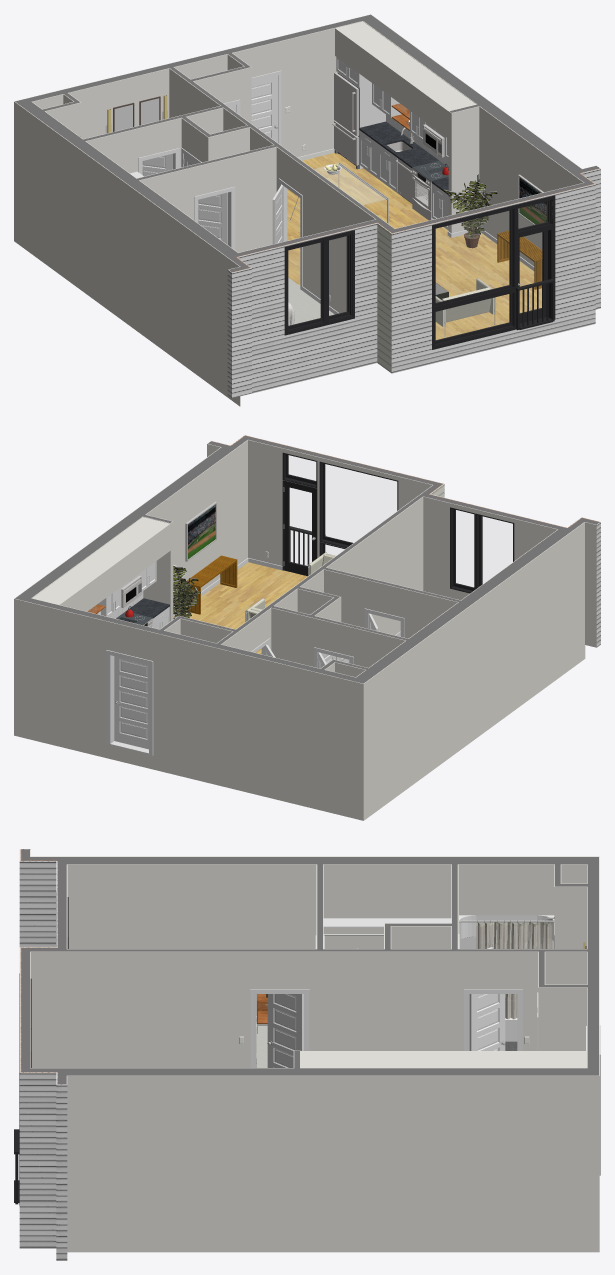
The model's file is apartment.glb.
3 views of the same model, one above another, from view 1: azimuth 30°, elevation 25°; view 2: azimuth 150°, elevation 25°; view 3: azimuth 270°, elevation 25° (orthographic). The views are drawn at different scales.
Visible parts, largest first — view 1: Object_82, Object_103, Object_84, Object_83, Object_40, Object_74, Object_97, Object_17, Object_73, Object_76, Object_68, Object_95 (+11 smaller); view 2: Object_82, Object_83, Object_40, Object_84, Object_73, Object_76, Object_11, Object_21, Object_74, Object_103, Object_32, Object_33 (+1 smaller); view 3: Object_82, Object_83, Object_103, Object_74, Object_71, Object_76, Object_28, Object_72, Object_94, Object_40.
Part boxes in pixels (x1=…): Object_82: x1=14, y1=14, x2=595, y2=406; Object_103: x1=227, y1=165, x2=600, y2=397; Object_84: x1=287, y1=153, x2=541, y2=339; Object_83: x1=15, y1=14, x2=585, y2=258; Object_40: x1=284, y1=195, x2=555, y2=349; Object_74: x1=130, y1=70, x2=534, y2=314; Object_97: x1=332, y1=71, x2=444, y2=202; Object_17: x1=377, y1=223, x2=391, y2=373; Object_73: x1=181, y1=75, x2=448, y2=230; Object_76: x1=229, y1=166, x2=599, y2=272; Object_68: x1=228, y1=57, x2=448, y2=192; Object_95: x1=359, y1=121, x2=448, y2=194; Object_82: x1=14, y1=439, x2=596, y2=820; Object_83: x1=15, y1=444, x2=573, y2=683; Object_40: x1=282, y1=452, x2=514, y2=593; Object_84: x1=173, y1=562, x2=307, y2=654; Object_73: x1=98, y1=598, x2=338, y2=749; Object_76: x1=208, y1=435, x2=599, y2=529; Object_11: x1=106, y1=650, x2=153, y2=755; Object_21: x1=186, y1=555, x2=237, y2=614; Object_74: x1=114, y1=558, x2=404, y2=740; Object_103: x1=207, y1=435, x2=600, y2=647; Object_32: x1=188, y1=504, x2=215, y2=559; Object_33: x1=173, y1=567, x2=200, y2=618; Object_82: x1=30, y1=849, x2=599, y2=1252; Object_83: x1=58, y1=857, x2=598, y2=1075; Object_103: x1=19, y1=849, x2=67, y2=1260; Object_74: x1=250, y1=918, x2=586, y2=1067; Object_71: x1=267, y1=994, x2=303, y2=1067; Object_76: x1=21, y1=849, x2=66, y2=1084; Object_28: x1=476, y1=924, x2=552, y2=1019; Object_72: x1=469, y1=994, x2=505, y2=1050; Object_94: x1=459, y1=915, x2=554, y2=1041; Object_40: x1=14, y1=892, x2=68, y2=1205.
Size of the model in its own units: 349 by 122 by 368.
Materials: 78 (30 with a texture image).
